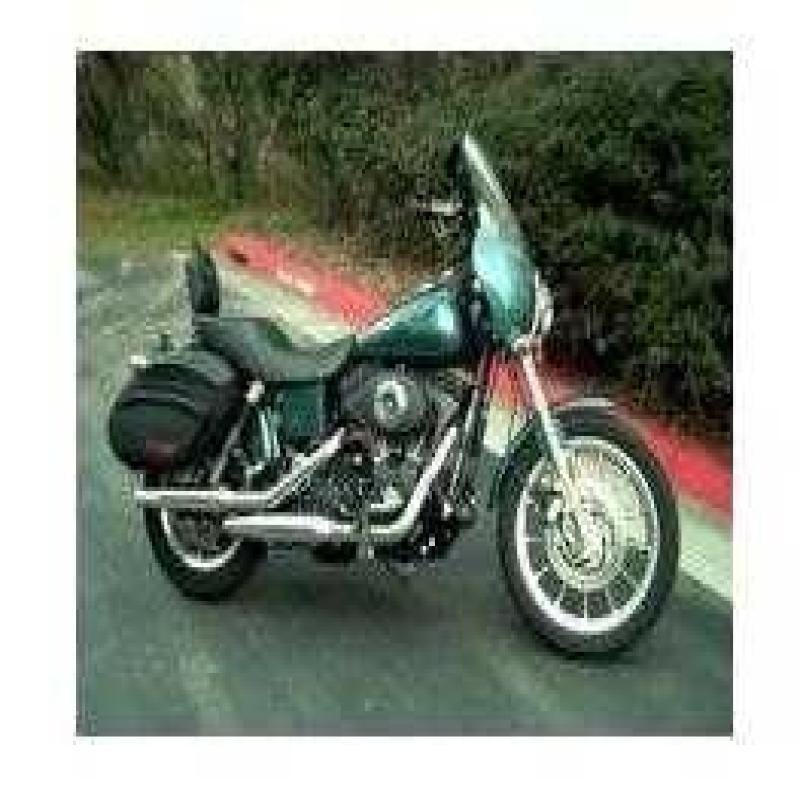bike: (109, 111, 679, 650)
